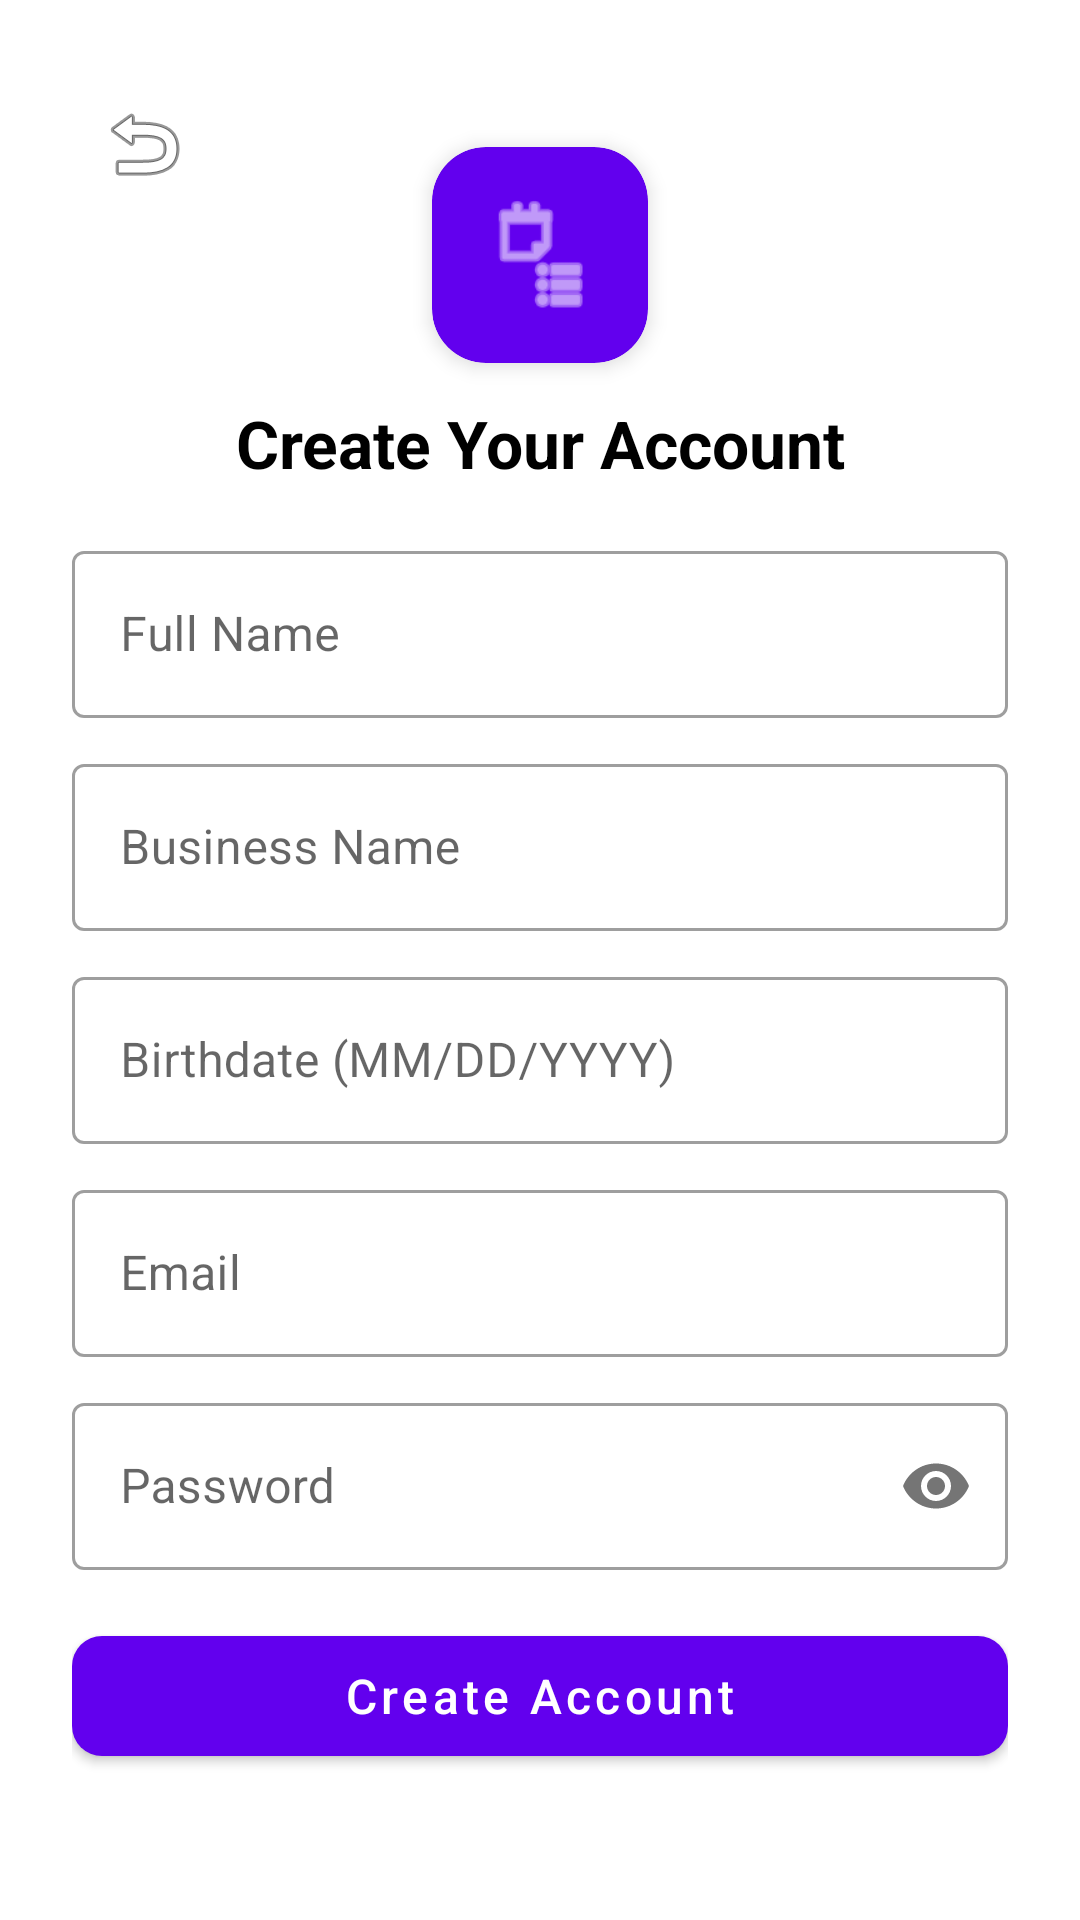

Icons on this 1080 × 1920 Android screen, each with the point to tap as [x,y]:
Back: [145,144]
